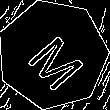M_NE: (18, 21, 87, 88)
